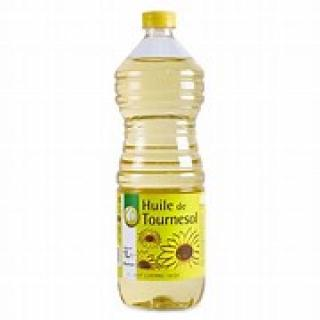Plastic-bottle: (110, 10, 214, 315)
